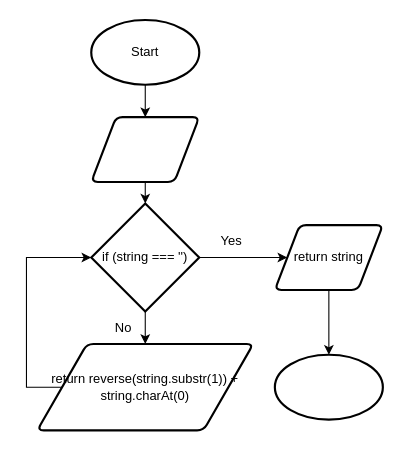
Some shapes in this 403 by 449 pixel diagram are drawn without their labels. The centre of each missing label's shape, as x and y in pixels:
"get string" goes at point (145, 149).
"Stop" goes at point (328, 386).
